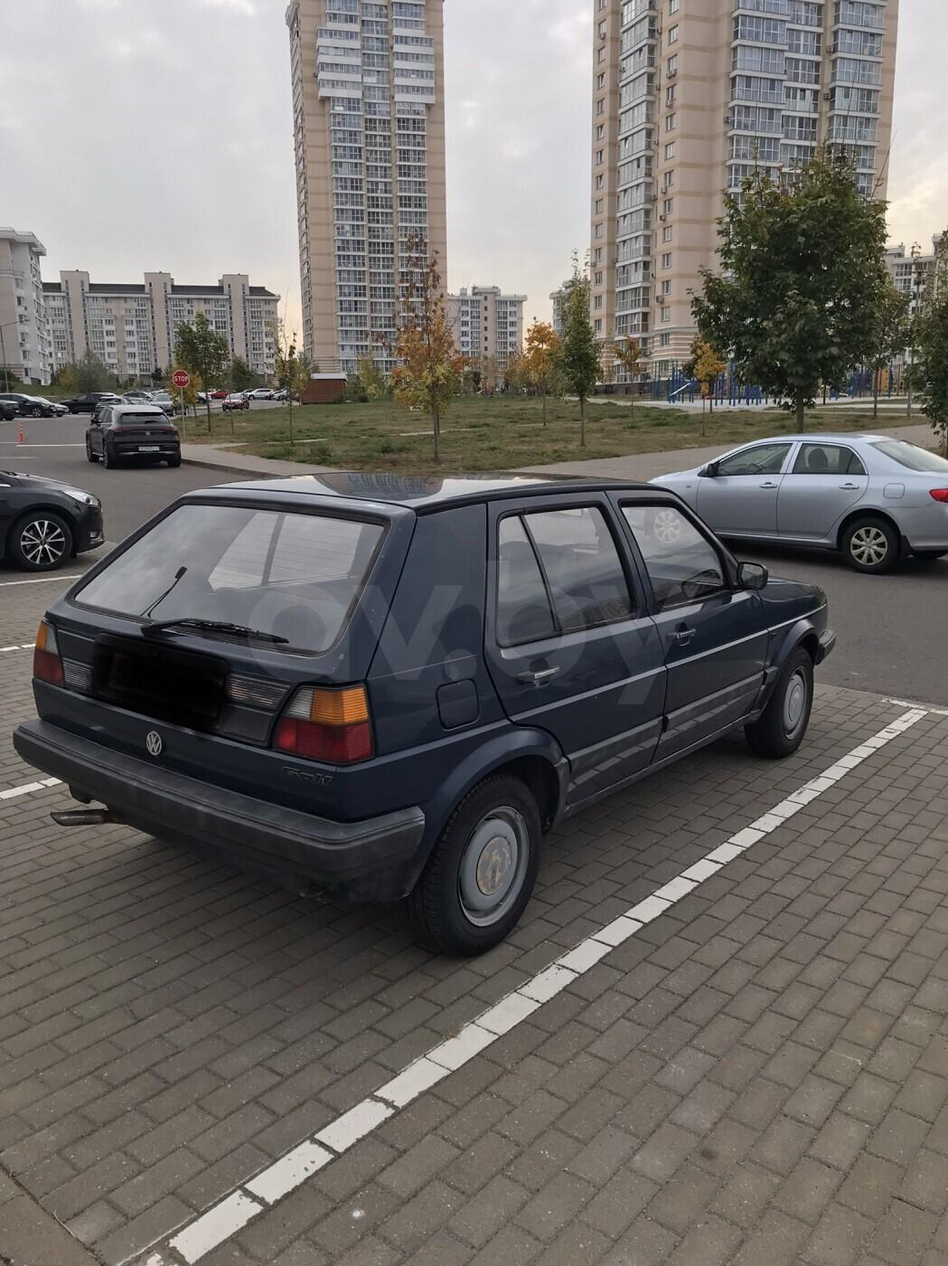Golf_1983-1992: (13, 472, 837, 942)
